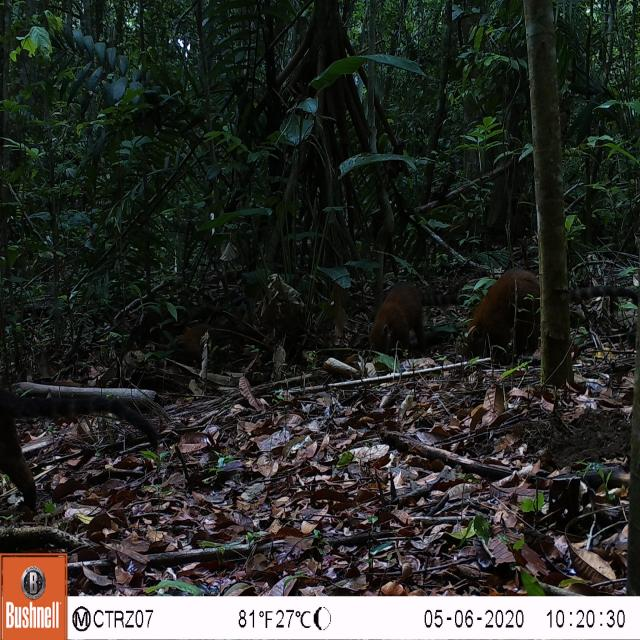South American Coati: (461, 255, 640, 382), (358, 260, 469, 366), (150, 302, 248, 385)
